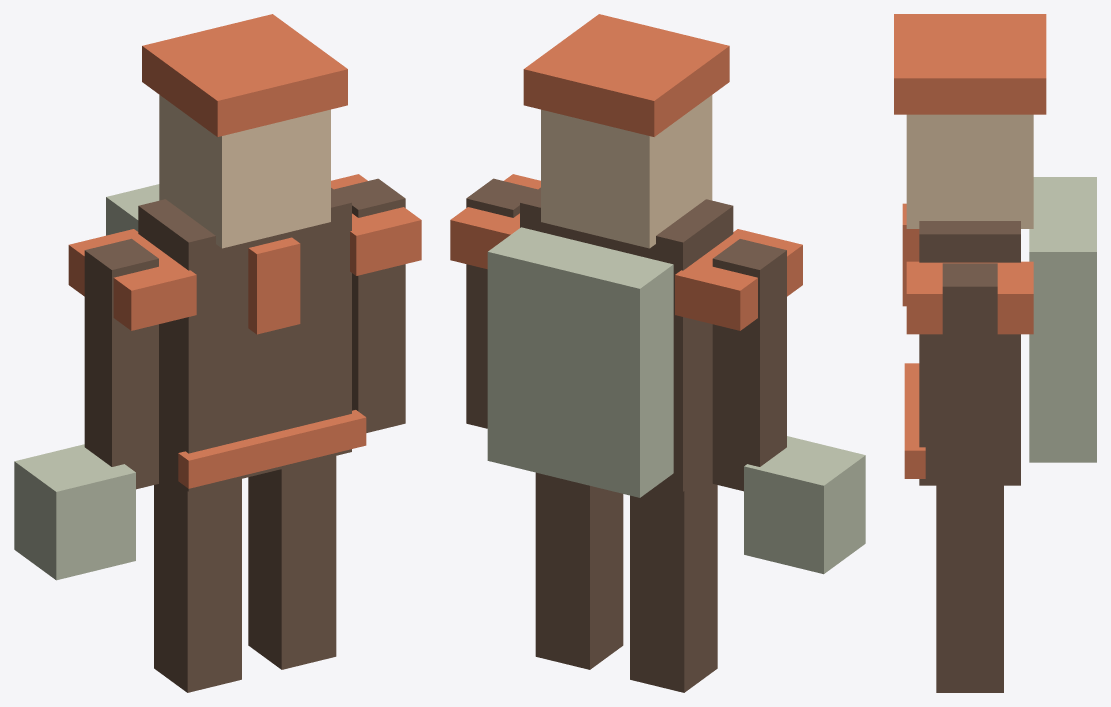
Rendered from 15_ossa_mossguard_engineer_under_standing.glb.
3 renders of one model, left to right at view 1: azimuth 30°, elevation 25°; view 2: azimuth 150°, elevation 25°; view 3: azimuth 270°, elevation 25°, orthographic.
Visible parts, largest first — view 1: Ossa Mossguard, Engineer under Standing; view 2: Ossa Mossguard, Engineer under Standing; view 3: Ossa Mossguard, Engineer under Standing.
Part boxes in pixels (x1,y1,x2,y2): Ossa Mossguard, Engineer under Standing: (14,14,421,692); Ossa Mossguard, Engineer under Standing: (450,14,865,692); Ossa Mossguard, Engineer under Standing: (894,14,1096,692).
Bounding box in the file's own units: 0.9729 × 1.56 × 0.4694.
